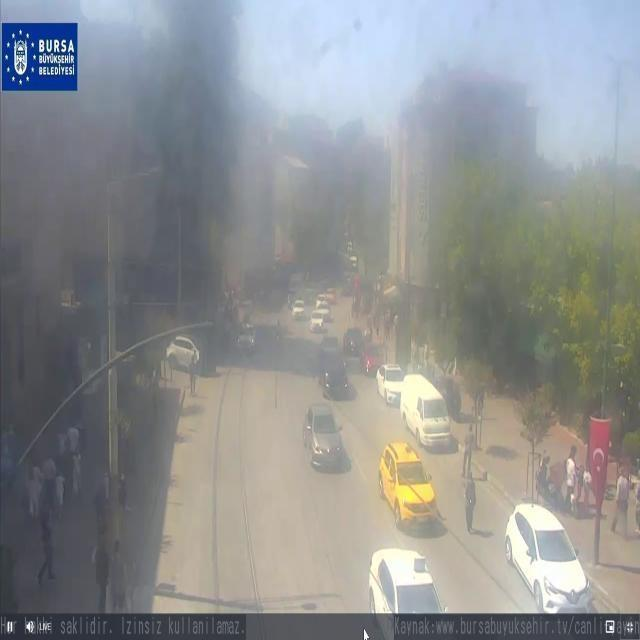Car: (500, 502, 591, 608), (370, 548, 451, 640), (377, 438, 438, 523), (304, 402, 345, 473), (317, 346, 351, 402)
Van: (400, 374, 452, 450)
